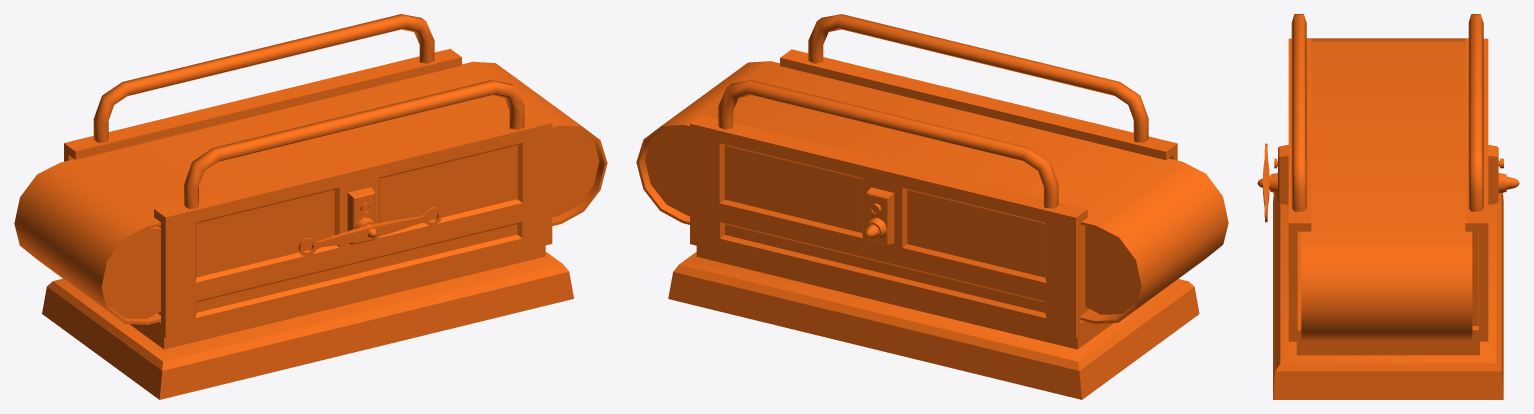
The model's file is Me_ConvBelt01(1).fbx.
3 views of the same model, side by side, from view 1: azimuth 30°, elevation 25°; view 2: azimuth 150°, elevation 25°; view 3: azimuth 270°, elevation 25° (orthographic). The views are drawn at different scales.
Visible parts, largest first — view 1: Me_ConvBelt01; view 2: Me_ConvBelt01; view 3: Me_ConvBelt01.
Boxes of the visible parts, left/top/right/bottom form: Me_ConvBelt01: left=14, top=14, right=607, bottom=399; Me_ConvBelt01: left=636, top=14, right=1228, bottom=399; Me_ConvBelt01: left=1257, top=14, right=1519, bottom=399.
Bounding box in the file's own units: 50.14 × 21.18 × 22.96.
